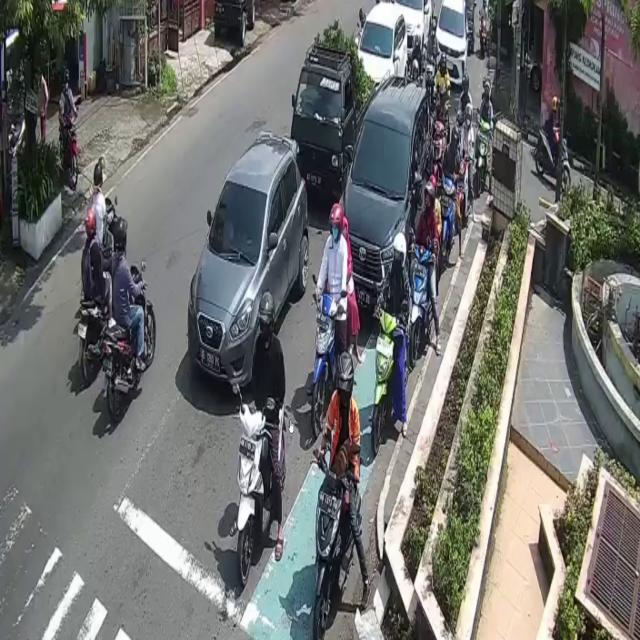bus: (234, 390, 290, 583), (100, 266, 158, 414), (313, 458, 360, 640), (371, 306, 399, 452), (314, 292, 343, 430), (410, 243, 433, 361), (534, 124, 571, 192), (60, 108, 80, 188), (476, 118, 494, 186), (442, 174, 457, 252)
motorcycle: (188, 131, 308, 393), (341, 77, 434, 322), (290, 42, 376, 200), (358, 0, 409, 84), (434, 0, 468, 95), (394, 0, 431, 58)
